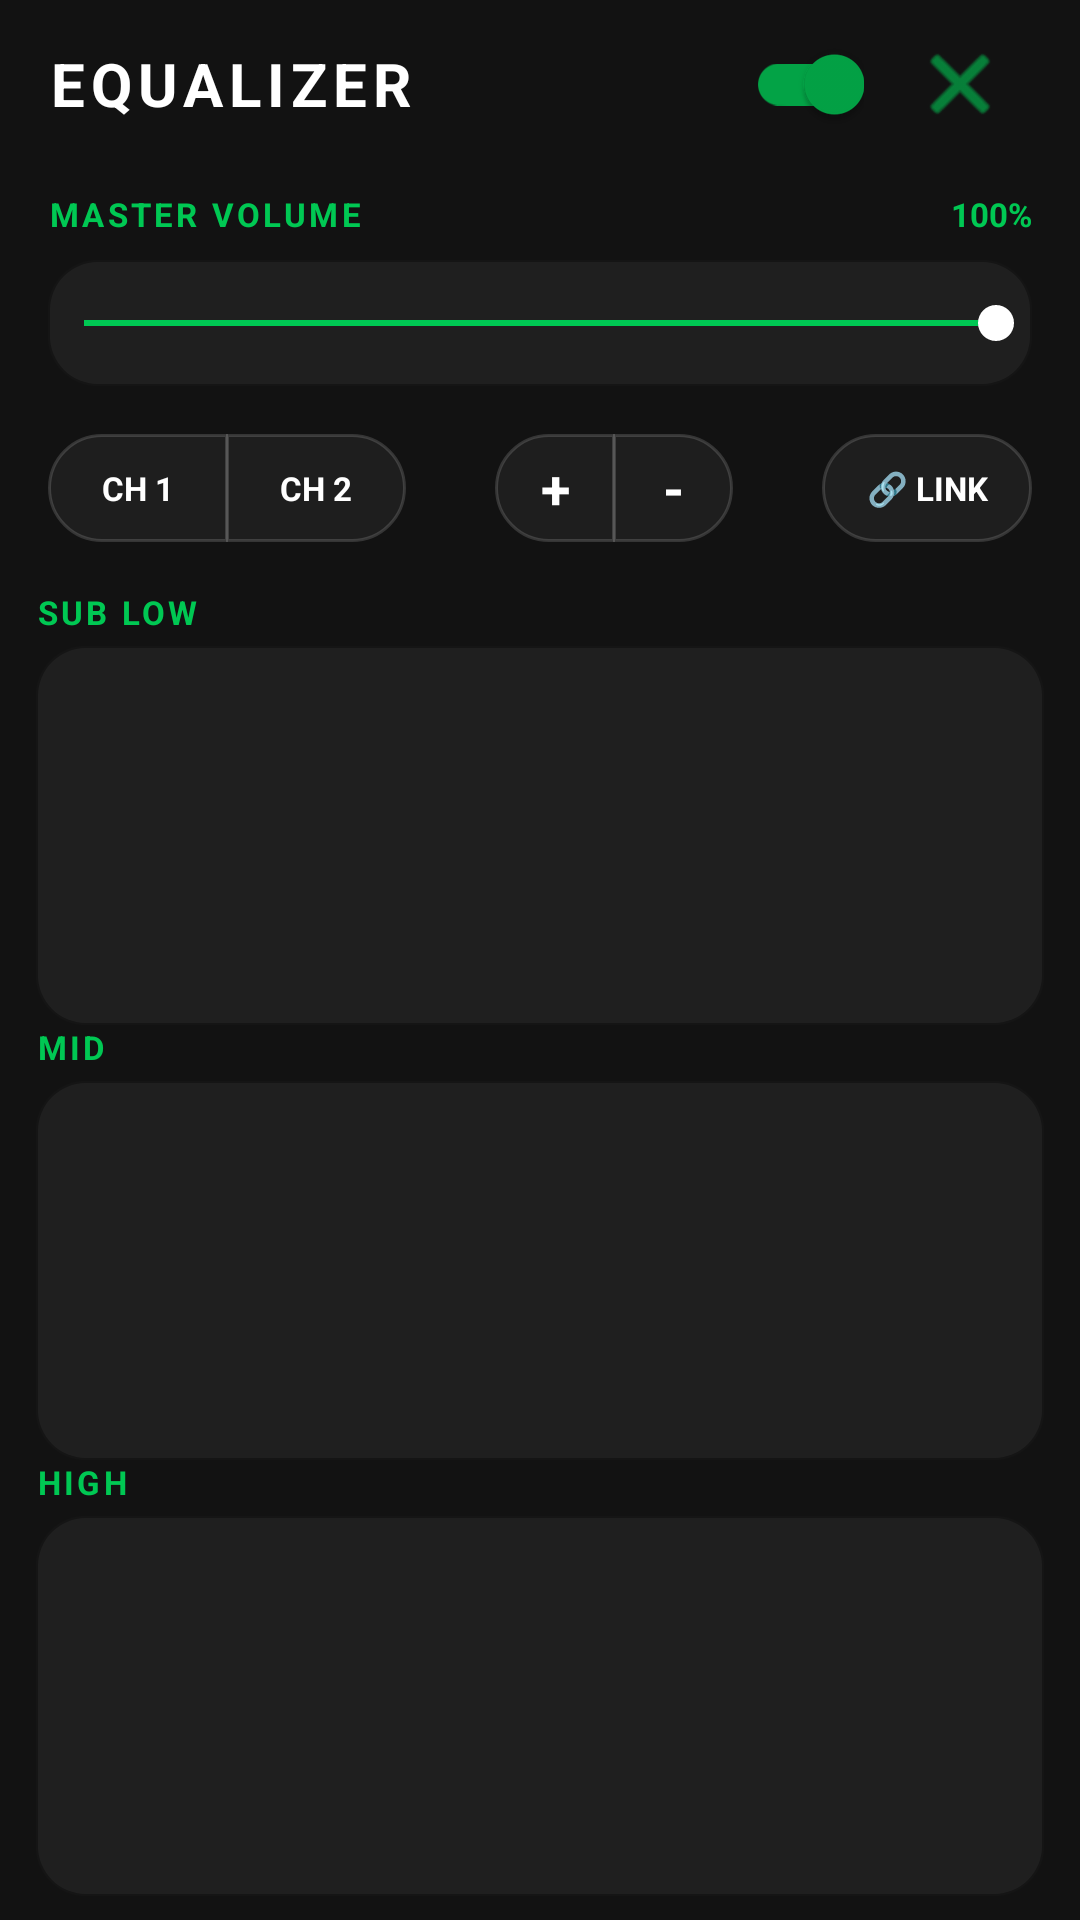

Named icons in this screenshot (1080px x 1920px) and their bounding boxes, (x1, y1, x2, y2):
Close: (930, 54, 990, 114)
